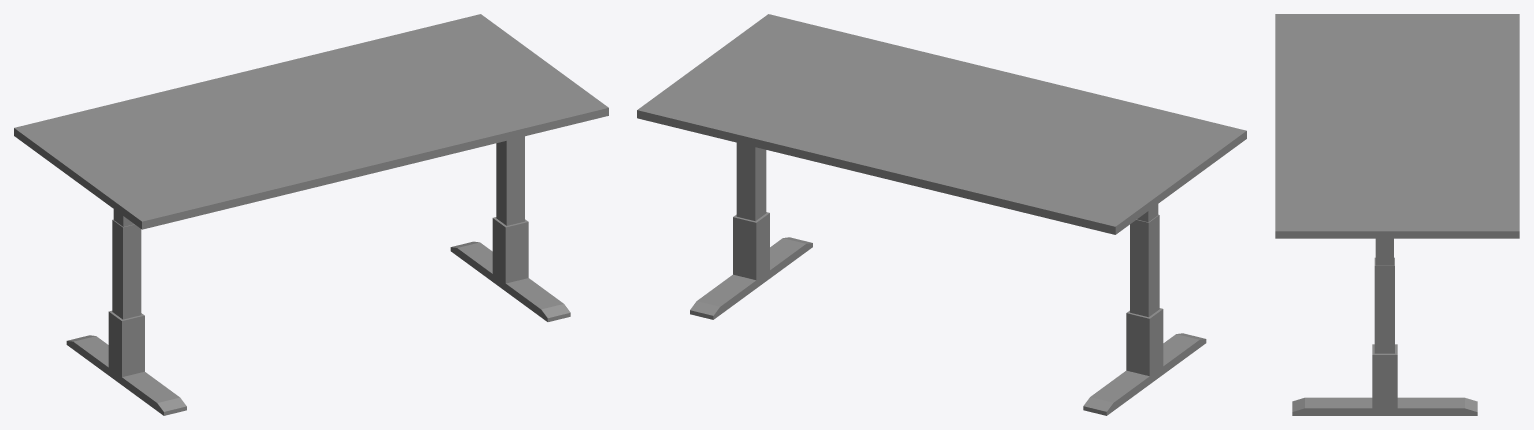
File: ComputerDesk_01_snaps001.fbx
3 renders of one model, left to right at view 1: azimuth 30°, elevation 25°; view 2: azimuth 150°, elevation 25°; view 3: azimuth 270°, elevation 25°, orthographic. The views are drawn at different scales.
Visible parts, largest first — view 1: ComputerDesk_01_snaps001; view 2: ComputerDesk_01_snaps001; view 3: ComputerDesk_01_snaps001.
Part boxes in pixels (x1,y1,x2,y2): ComputerDesk_01_snaps001: [14, 14, 608, 415]; ComputerDesk_01_snaps001: [637, 14, 1246, 415]; ComputerDesk_01_snaps001: [1275, 14, 1519, 415].
Size of the model in its own units: 1.91 by 0.8125 by 0.9063.
1 material, 1 textured.
